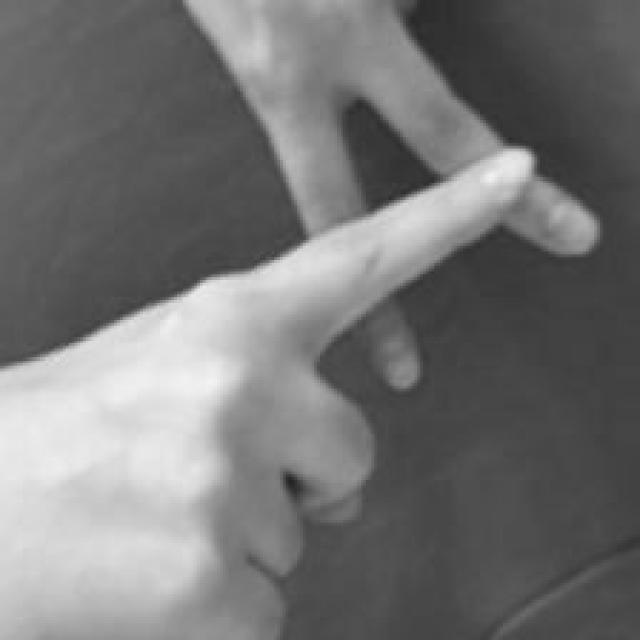A: (181, 0, 604, 461)
